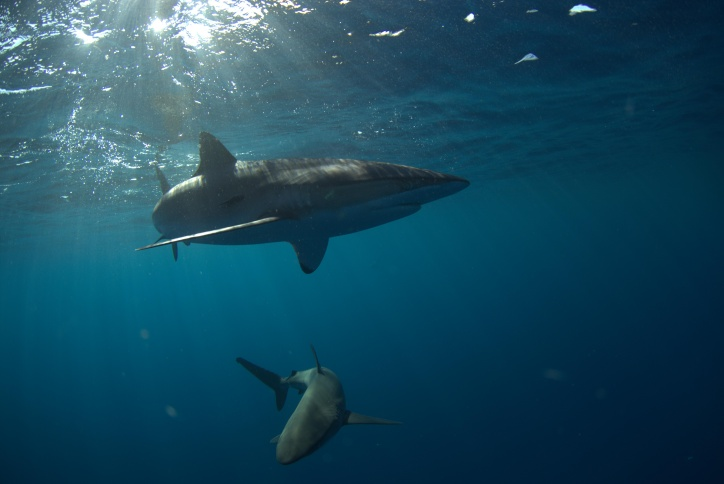Sedoso: (106, 108, 484, 298)
